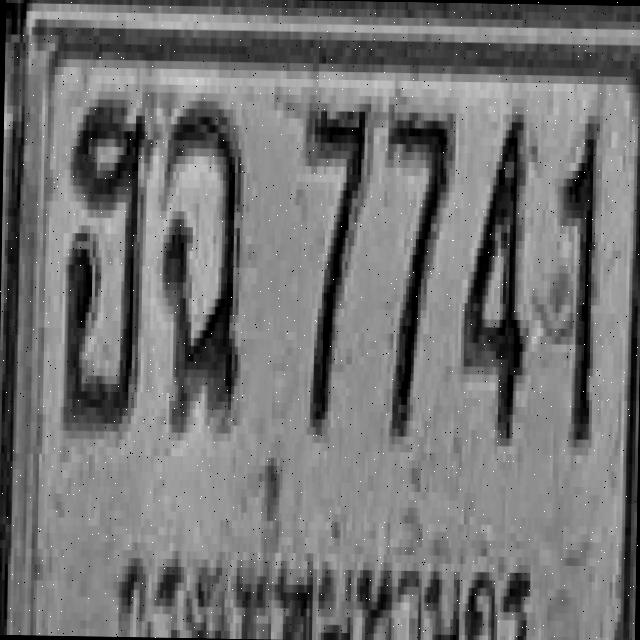1: (554, 115, 598, 448)
18ChorChing: (158, 96, 243, 429)
4: (459, 105, 529, 438)
53HorNokHook: (61, 90, 152, 432)
7: (382, 104, 454, 436), (299, 98, 369, 431)
